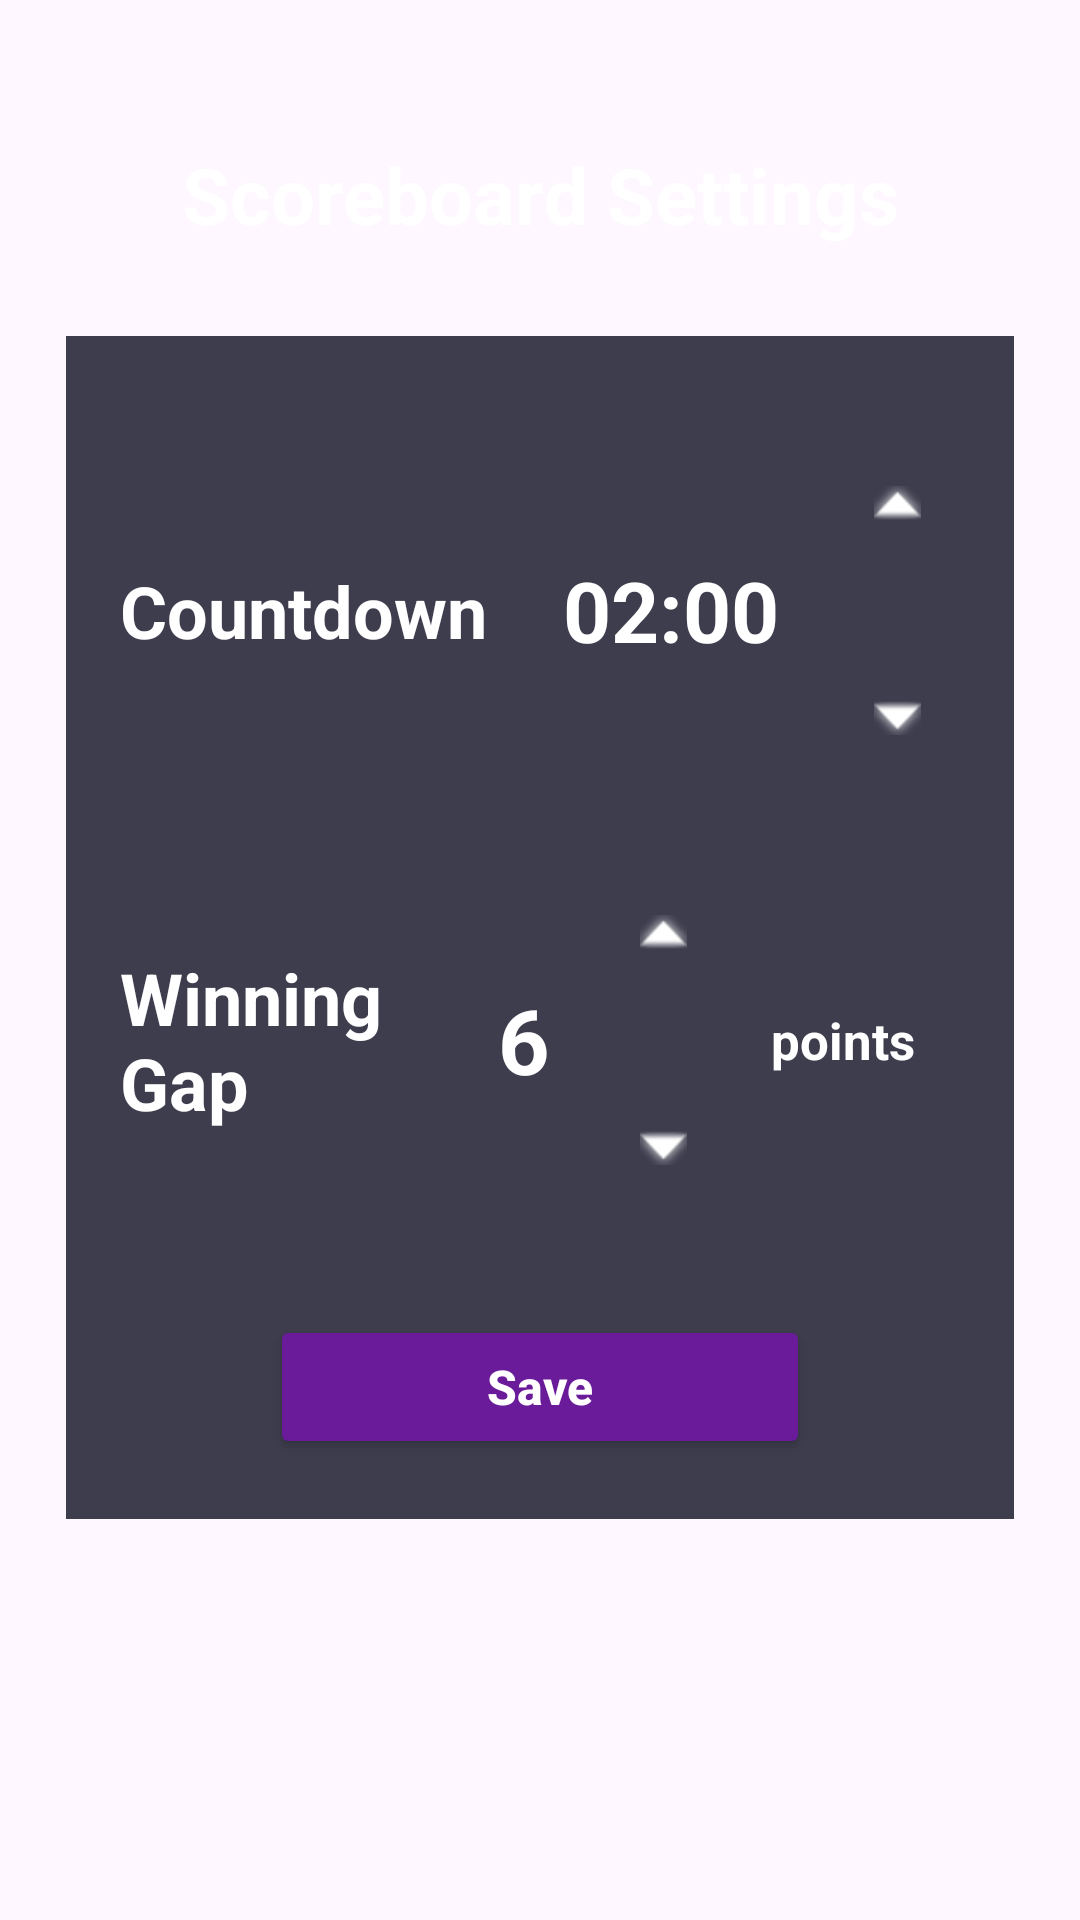

Icon bounding boxes for this 1080 × 1920 phone screenshot, format bbox=(x1, y1, x2, y2):
arrow down float: bbox=(874, 702, 921, 733), bbox=(640, 1132, 687, 1163)
arrow up float: bbox=(874, 488, 921, 519), bbox=(640, 917, 687, 948)
